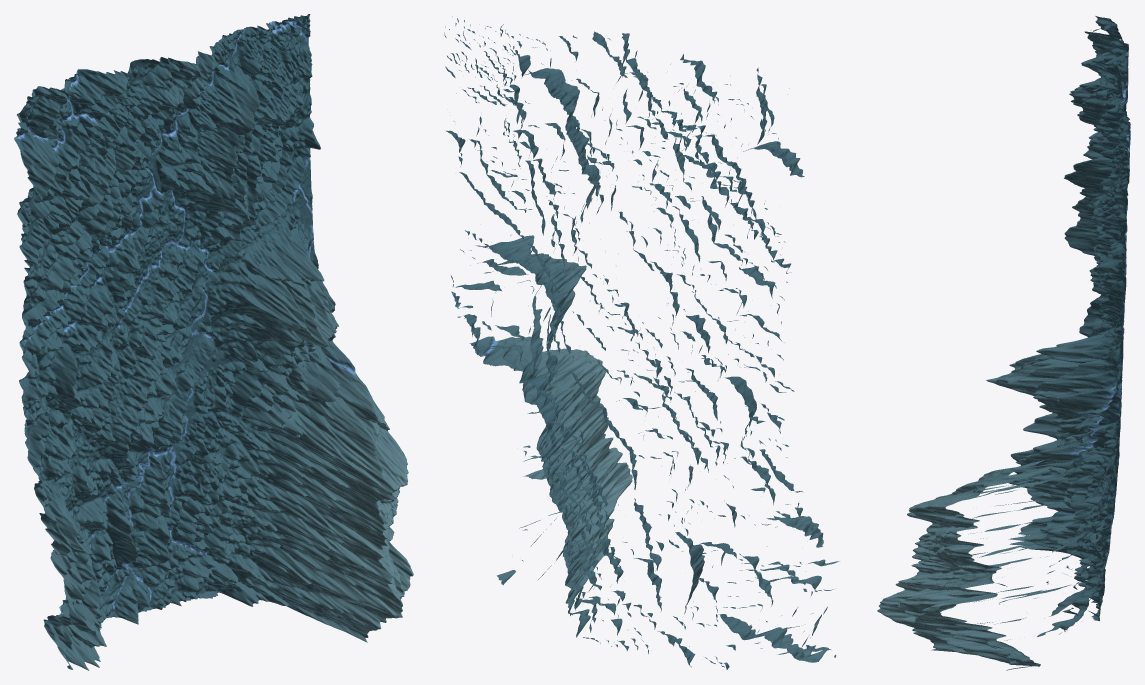
The model's file is terrain.glb.
The picture shows the model from 3 angles, left to right: view 1: azimuth 30°, elevation 25°; view 2: azimuth 150°, elevation 25°; view 3: azimuth 270°, elevation 25°; orthographic projection. The views are drawn at different scales.
Visible parts, largest first — view 1: geometry_0; view 2: geometry_0; view 3: geometry_0.
Boxes of the visible parts, x1,y1,x2,y2 form: geometry_0: [14, 14, 413, 670]; geometry_0: [444, 16, 839, 669]; geometry_0: [877, 16, 1130, 670].
Size of the model in its own units: 19051 by 33396 by 14795.
